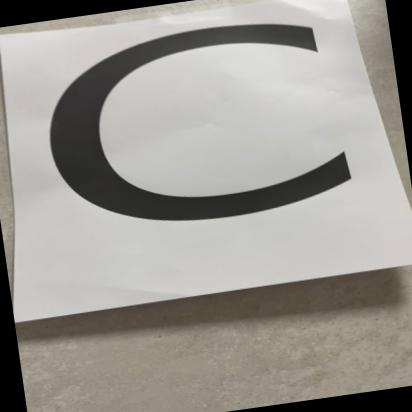seat: (0, 0, 389, 315)
